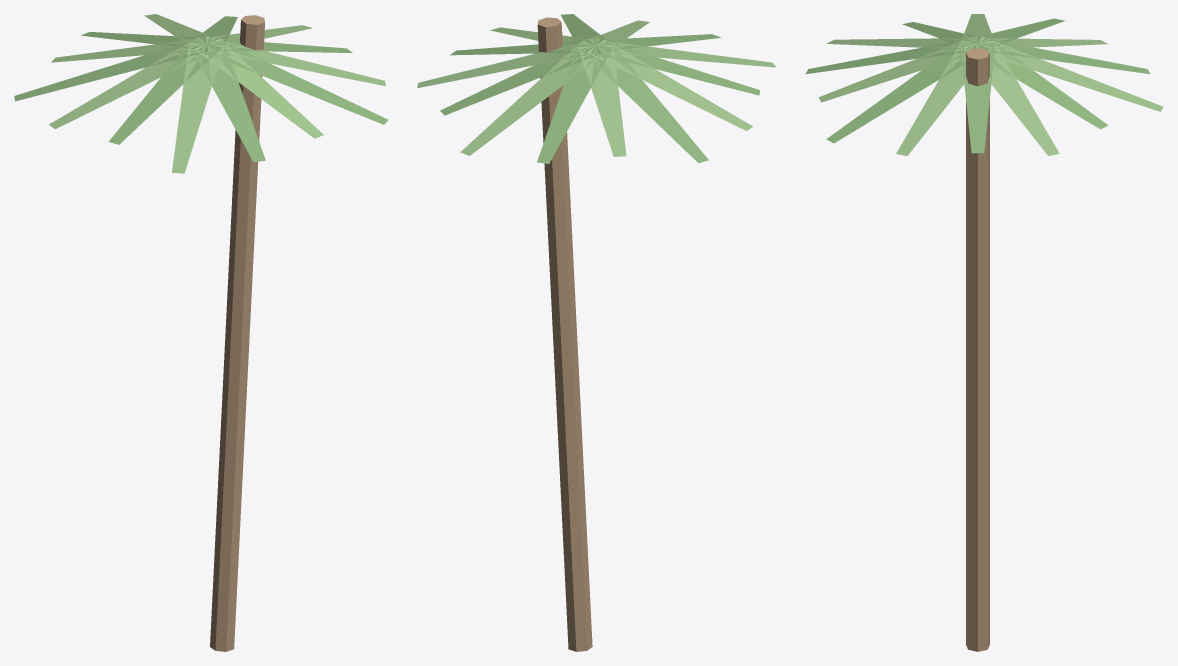
File: veg_tree_date_palm_02.glb
The picture shows the model from 3 angles, left to right: view 1: azimuth 30°, elevation 25°; view 2: azimuth 150°, elevation 25°; view 3: azimuth 270°, elevation 25°; orthographic projection. The views are drawn at different scales.
Visible parts, largest first — view 1: trunk, leaf_05, leaf_04, leaf_02, leaf_06, leaf_07, leaf_03, leaf_08, leaf_01, leaf_09, leaf_10, leaf_00 (+1 smaller); view 2: trunk, leaf_08, leaf_11, leaf_10, leaf_09, leaf_07, leaf_12, leaf_13, leaf_06, leaf_05, leaf_04, leaf_00 (+3 smaller); view 3: trunk, leaf_02, leaf_01, leaf_13, leaf_11, leaf_00, leaf_12, leaf_03, leaf_04, leaf_10, leaf_05, leaf_09 (+3 smaller).
Part boxes in pixels (box(x1,y1,x2,y2)): trunk: box(210, 15, 264, 651); leaf_05: box(172, 42, 224, 173); leaf_04: box(190, 41, 265, 162); leaf_02: box(200, 36, 388, 124); leaf_06: box(108, 39, 221, 144); leaf_07: box(49, 37, 215, 129); leaf_03: box(194, 38, 323, 138); leaf_08: box(14, 36, 207, 101); leaf_01: box(205, 36, 385, 86); leaf_09: box(51, 36, 212, 62); leaf_10: box(81, 32, 218, 48); leaf_00: box(198, 37, 352, 52); trunk: box(537, 17, 592, 651); leaf_08: box(581, 41, 708, 163); leaf_11: box(460, 41, 608, 155); leaf_10: box(537, 43, 612, 163); leaf_09: box(578, 45, 626, 156); leaf_07: box(587, 39, 752, 130); leaf_12: box(440, 39, 601, 115); leaf_13: box(417, 38, 596, 88); leaf_06: box(594, 38, 760, 95); leaf_05: box(589, 39, 776, 67); leaf_04: box(583, 34, 720, 50); leaf_00: box(450, 39, 603, 55); trunk: box(966, 48, 989, 651); leaf_02: box(826, 38, 988, 143); leaf_01: box(896, 40, 993, 155); leaf_13: box(962, 40, 1059, 155); leaf_11: box(975, 36, 1163, 111); leaf_00: box(960, 43, 995, 153); leaf_12: box(967, 38, 1108, 129); leaf_03: box(818, 36, 980, 102); leaf_04: box(805, 36, 981, 74); leaf_10: box(974, 36, 1149, 74); leaf_05: box(826, 37, 988, 49); leaf_09: box(967, 37, 1108, 49).
Size of the model in its own units: 6.04 by 12.01 by 6.41.
